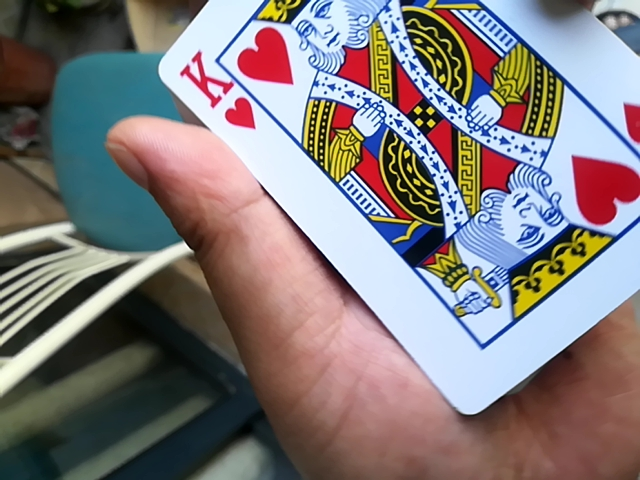hx k: (152, 2, 638, 401)
